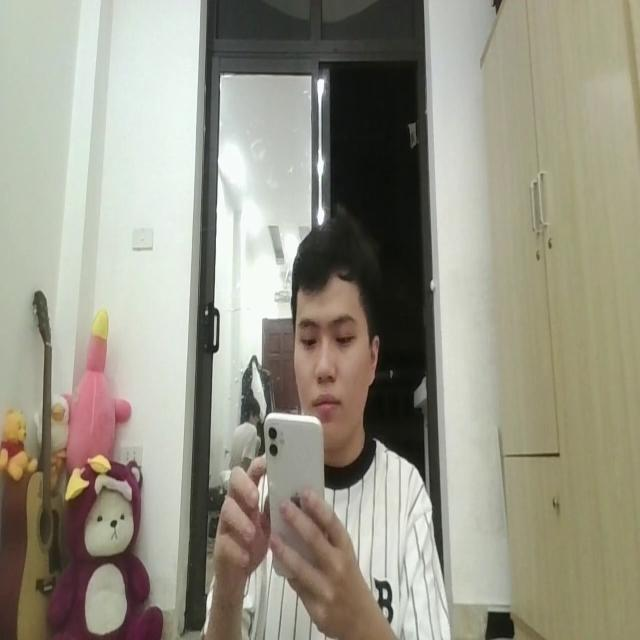phone: (263, 408, 327, 567)
student: (203, 217, 450, 640)
